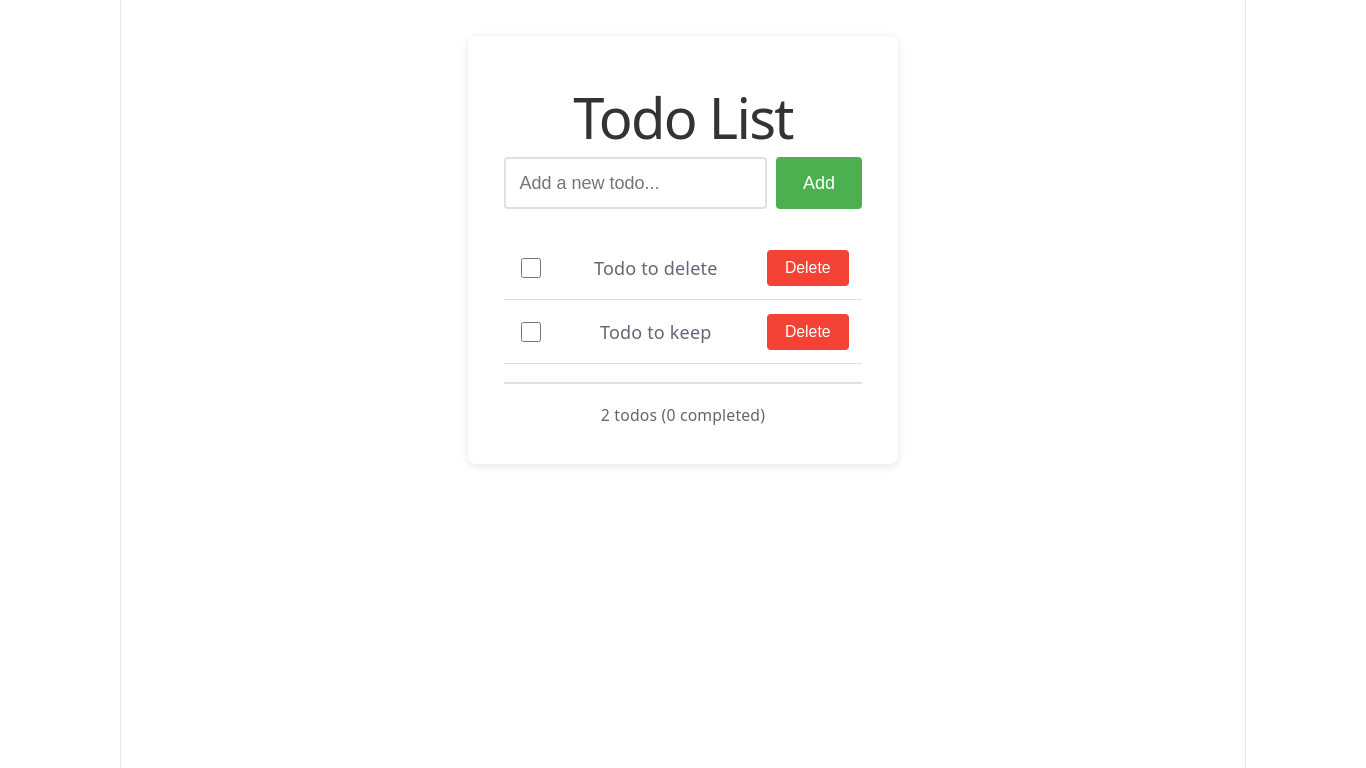
Test case: TodoList Component › Deleting Todos › deletes a todo when clicking delete button
Expected: the text "Todo to delete" is shown, x1=594 y1=256 x2=718 y2=280
Expected: the text with test id "todo-count" shows "2 todos", x1=504 y1=382 x2=862 y2=428
Step 1. Click the button with test id "delete-button-1" → (808, 268), box x1=767 y1=250 x2=848 y2=286
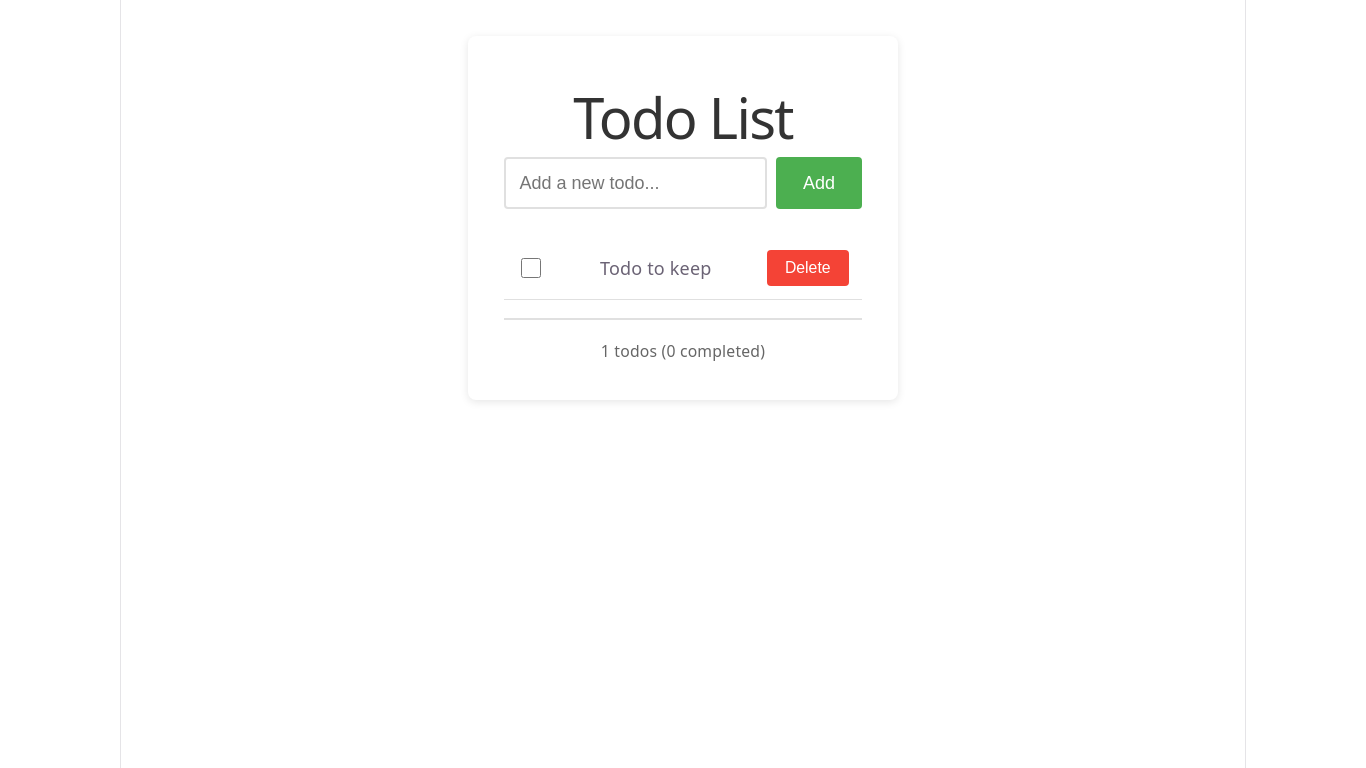
Expected: the text "Todo to keep" is shown, x1=600 y1=256 x2=712 y2=280
Expected: the text "Todo to delete" is gone
Expected: the text with test id "todo-count" shows "1 todos", x1=504 y1=318 x2=862 y2=364
